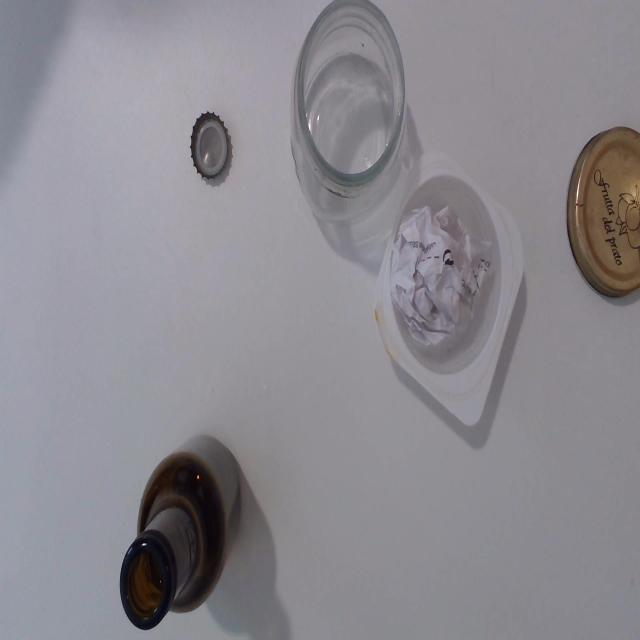Glass: (121, 431, 242, 637), (294, 0, 406, 205)
Paper: (391, 210, 487, 368)
